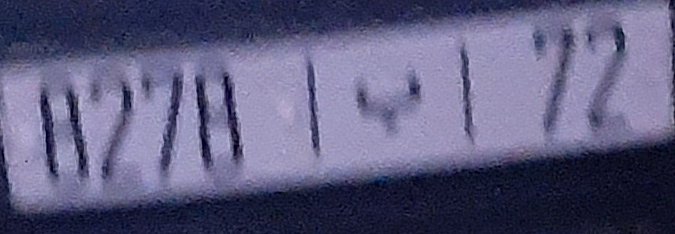2: (89, 72, 143, 191), (582, 19, 632, 133)
7: (530, 24, 578, 141), (142, 64, 185, 192)
8: (190, 62, 248, 183), (38, 78, 93, 191)
b: (350, 60, 430, 144)
